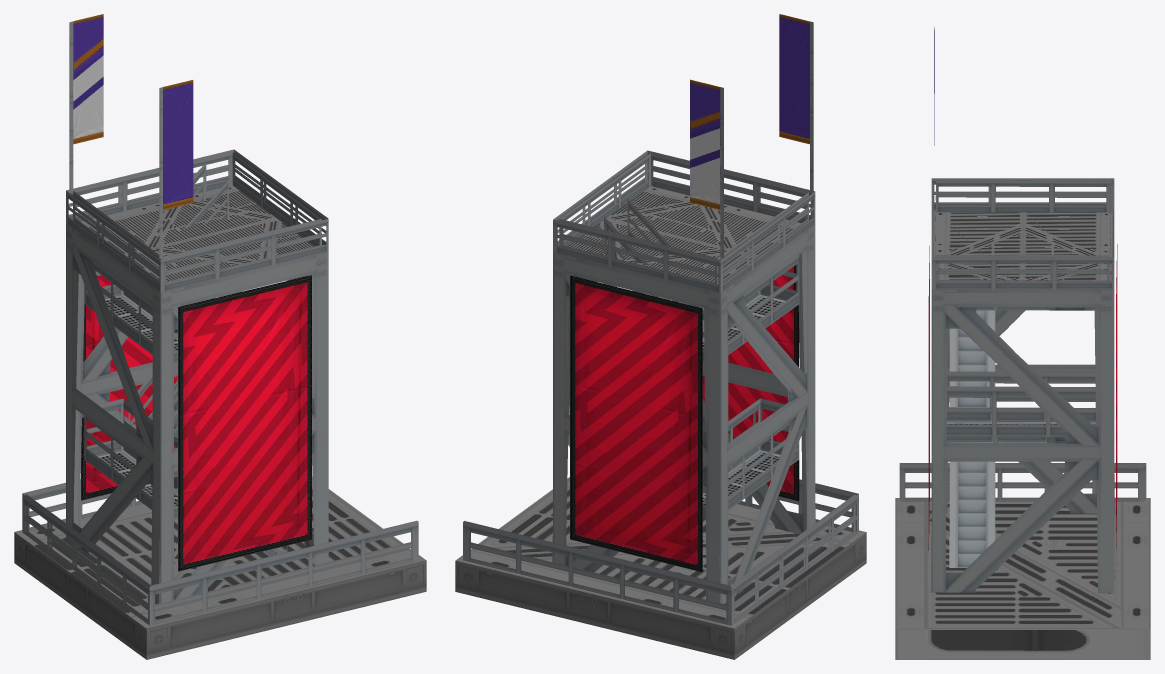
The model's file is pro_camera_tower_attached.fbx.
The picture shows the model from 3 angles, left to right: view 1: azimuth 30°, elevation 25°; view 2: azimuth 150°, elevation 25°; view 3: azimuth 270°, elevation 25°; orthographic projection. The views are drawn at different scales.
Visible parts, largest first — view 1: pro_camera_tower_attached, tower_attachment_slanted, flags; view 2: pro_camera_tower_attached, tower_attachment_slanted, flags; view 3: pro_camera_tower_attached, tower_attachment_slanted.
Part boxes in pixels (x1=…): pro_camera_tower_attached: x1=66, y1=149, x2=328, y2=604; tower_attachment_slanted: x1=14, y1=477, x2=426, y2=659; flags: x1=69, y1=14, x2=193, y2=258; pro_camera_tower_attached: x1=552, y1=150, x2=815, y2=604; tower_attachment_slanted: x1=455, y1=477, x2=866, y2=659; flags: x1=690, y1=14, x2=813, y2=258; pro_camera_tower_attached: x1=928, y1=178, x2=1117, y2=593; tower_attachment_slanted: x1=895, y1=463, x2=1150, y2=659.
Bounding box in the file's own units: 936 × 1754 × 767.
